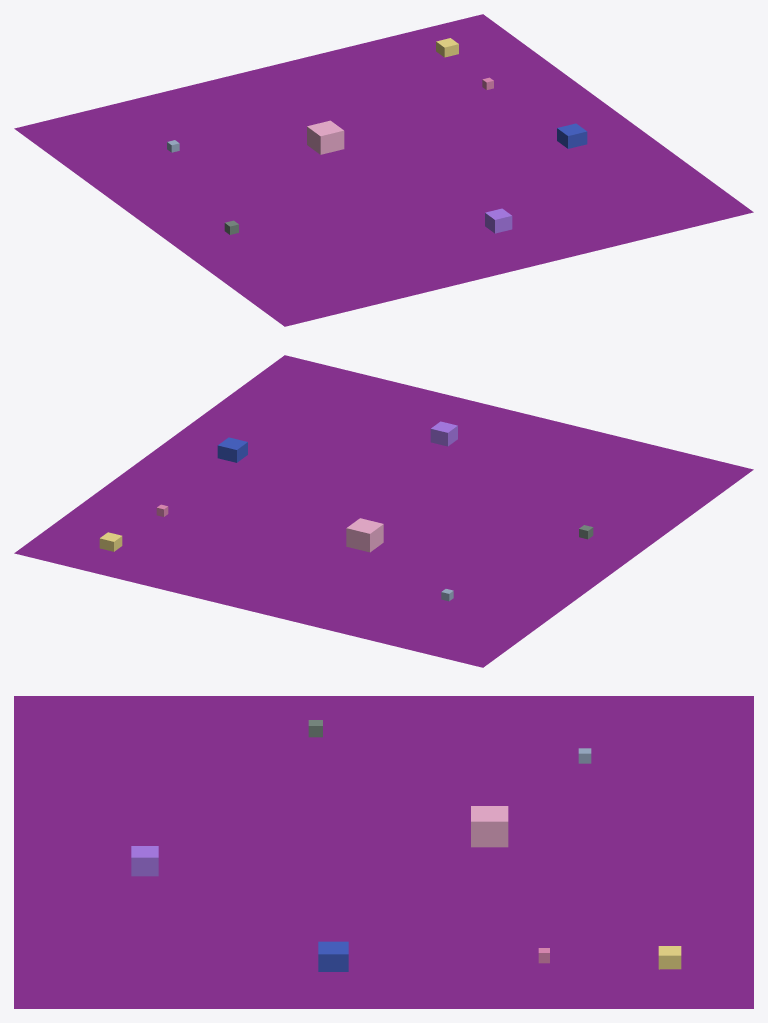
The picture shows the model from 3 angles, top to bottom: view 1: azimuth 30°, elevation 25°; view 2: azimuth 150°, elevation 25°; view 3: azimuth 270°, elevation 25°; orthographic projection. The views are drawn at different scales.
Visible parts, largest first — view 1: Chunk_1_1; view 2: Chunk_1_1; view 3: Chunk_1_1.
Boxes of the visible parts, <box> form: Chunk_1_1: <box>14,14,753,326</box>; Chunk_1_1: <box>14,355,753,667</box>; Chunk_1_1: <box>14,696,753,1008</box>.
Bounding box in the file's own units: 1500 × 78.78 × 1500.
